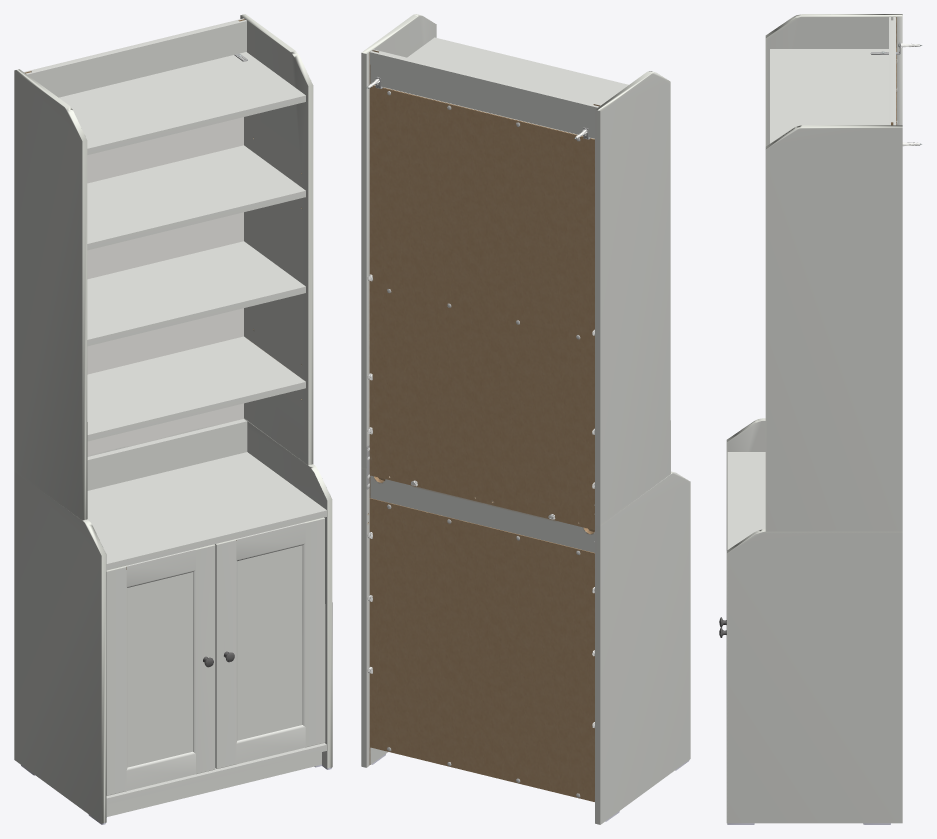
The model's file is hauga_high_cabinet_with_2_doors_white.glb.
The picture shows the model from 3 angles, left to right: view 1: azimuth 30°, elevation 25°; view 2: azimuth 150°, elevation 25°; view 3: azimuth 270°, elevation 25°; orthographic projection. The views are drawn at different scales.
Visible parts, largest first — view 1: model; view 2: model; view 3: model.
Part boxes in pixels (x1,y1,x2,y2): model: [14, 14, 332, 824]; model: [361, 14, 690, 824]; model: [719, 14, 922, 824].
Size of the model in its own units: 0.6957 by 1.99 by 0.5256.
1 material, 1 textured.
